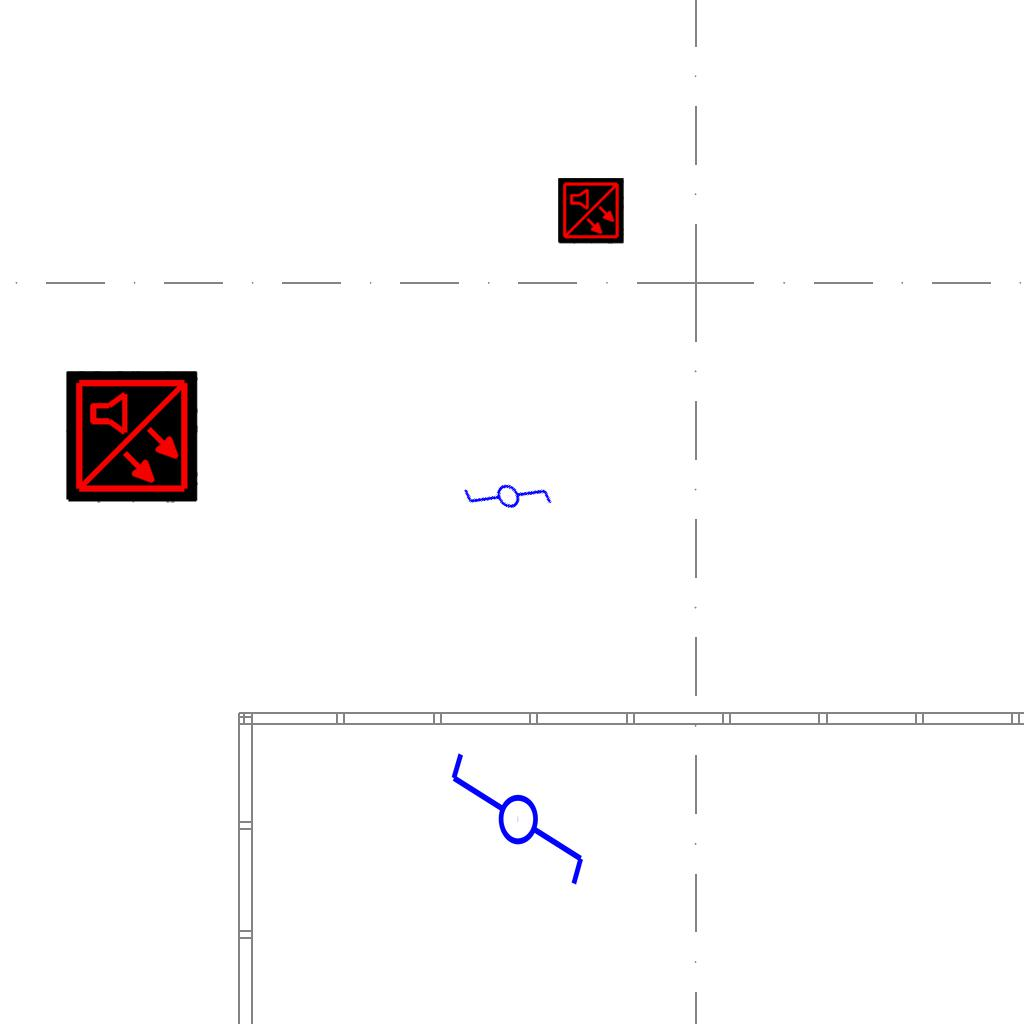OKW_Multisensormelder_(Kombination_optischer_Rauch-Kahlenmonoxid_Waerme-Melder): (66, 371, 198, 503), (558, 178, 624, 244)
Wechselschalter: (444, 749, 588, 906), (457, 446, 563, 554)
